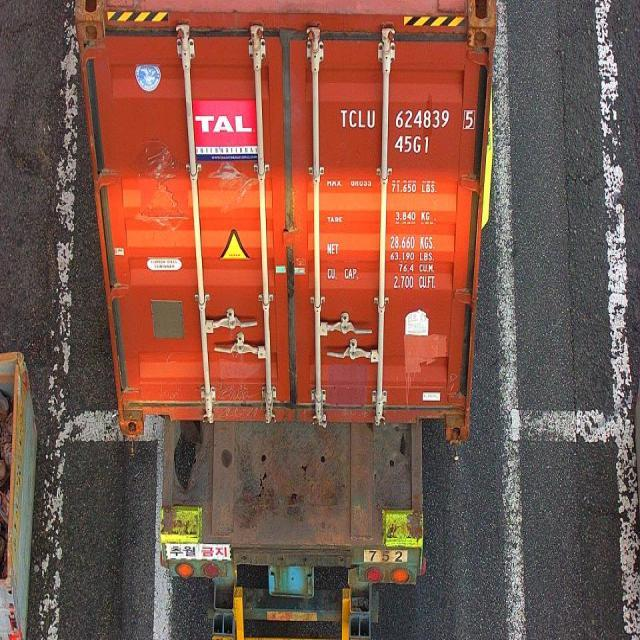ISO: (393, 133, 433, 154)
container_number: (339, 106, 469, 131)
